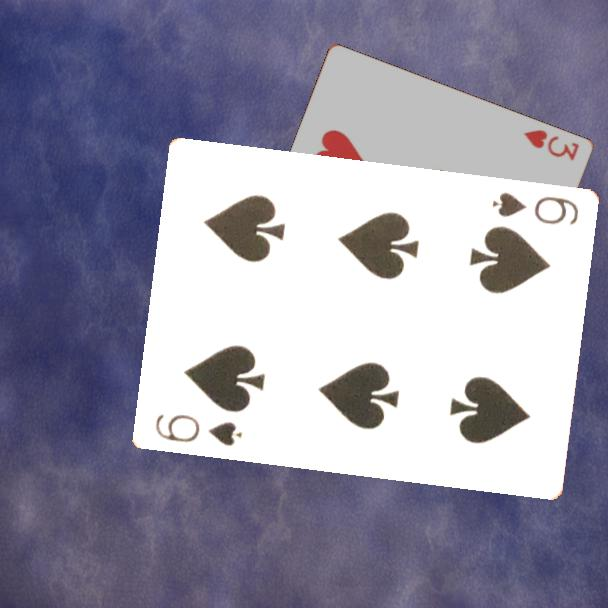h03: (520, 126, 582, 163)
s06: (151, 411, 244, 450), (488, 189, 581, 228)
